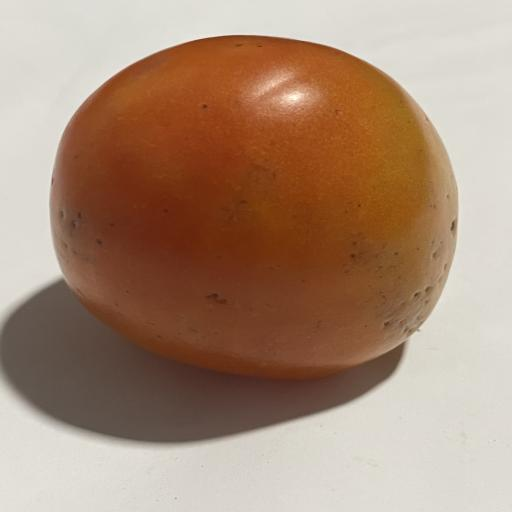unripe: (51, 35, 458, 378)
